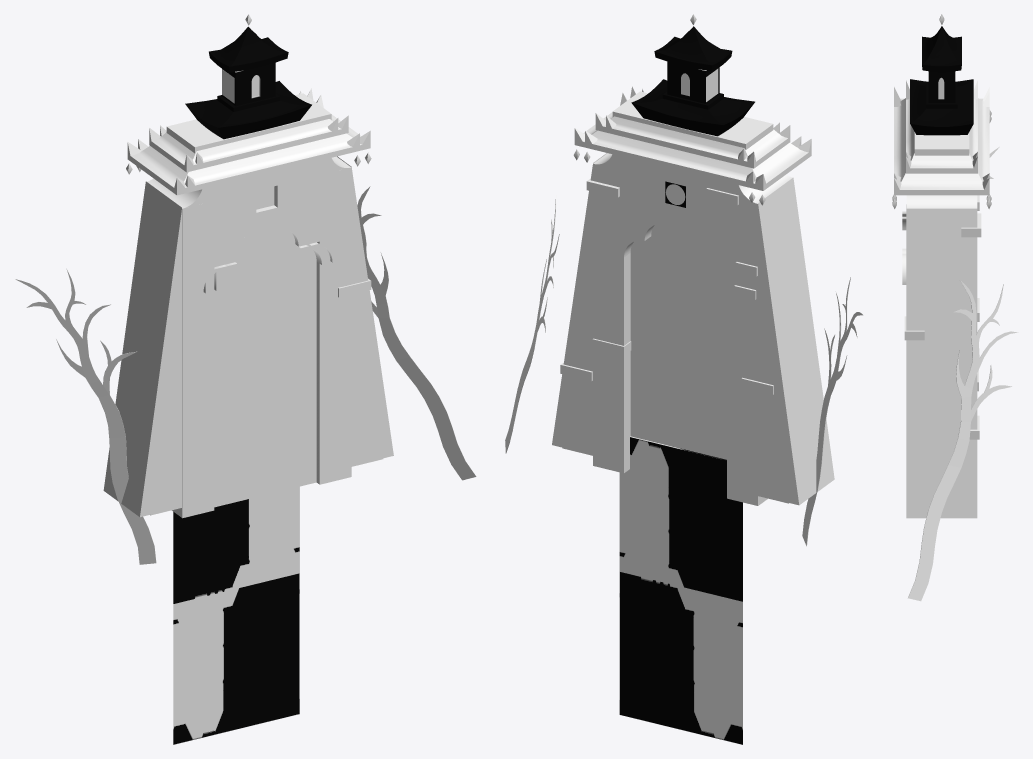
Rendered from SeaGate_EnterScene.fbx.
The picture shows the model from 3 angles, left to right: view 1: azimuth 30°, elevation 25°; view 2: azimuth 150°, elevation 25°; view 3: azimuth 270°, elevation 25°; orthographic projection. The views are drawn at different scales.
Visible parts, largest first — view 1: Whitebox_Slope (×3), DepthFadeCube, Doors_SlidingDoor_Top, Doors_SlidingDoor_Top (1), Whitebox_cube (×2), Rooftop_Rescue_Huge (×2), Rooftops_Four_Point_Village_Middle_Wide, Belltower_Rescue_Tree (11), Whitebox_cube (6), Rooftops_Four_Point_Village_Middle_Wide (1), Belltower_Rescue_Tree (10), Whitebox_cube (9) (+6 smaller); view 2: Whitebox_Slope (×4), DepthFadeCube, Doors_SlidingDoor_Top, Doors_SlidingDoor_Top (1), Rooftop_Rescue_Huge (×2), Whitebox_cube (9), Whitebox_cube (8), Rooftops_Four_Point_Village_Middle_Wide (×2), Rooftops_Four_Point_Village_Middle_Wide (1) (×2), Belltower_Rescue_Tree (11), Whitebox_cube, Whitebox_cube (11) (+6 smaller); view 3: Whitebox_Slope, Rooftop_Rescue_Huge (×2), Belltower_Rescue_Tree (10), Rooftops_Four_Point_Village_Middle_Wide (×2), Rooftops_Four_Point_Village_Middle_Wide (1) (×2), Whitebox_cube, Whitebox_Concave, Whitebox_cube (1), Whitebox_cube (2).
Part boxes in pixels (x1,y1,x2,y2): Whitebox_Slope (×3): [103, 156, 393, 517]; DepthFadeCube: [214, 186, 316, 507]; Doors_SlidingDoor_Top: [173, 573, 299, 744]; Doors_SlidingDoor_Top (1): [173, 486, 299, 603]; Whitebox_cube (×2): [166, 93, 331, 518]; Rooftop_Rescue_Huge (×2): [185, 26, 311, 139]; Rooftops_Four_Point_Village_Middle_Wide: [127, 95, 370, 195]; Belltower_Rescue_Tree (11): [14, 268, 156, 564]; Whitebox_cube (6): [330, 167, 351, 481]; Rooftops_Four_Point_Village_Middle_Wide (1): [149, 88, 348, 172]; Belltower_Rescue_Tree (10): [357, 186, 476, 480]; Whitebox_cube (9): [316, 239, 330, 484]; Whitebox_Slope (×4): [552, 153, 834, 505]; DepthFadeCube: [630, 224, 726, 459]; Doors_SlidingDoor_Top: [619, 572, 742, 744]; Doors_SlidingDoor_Top (1): [619, 437, 742, 601]; Rooftop_Rescue_Huge (×2): [631, 26, 754, 136]; Whitebox_cube (9): [603, 166, 630, 473]; Whitebox_cube (8): [727, 199, 747, 503]; Rooftops_Four_Point_Village_Middle_Wide (×2): [574, 93, 811, 190]; Rooftops_Four_Point_Village_Middle_Wide (1) (×2): [595, 86, 790, 168]; Belltower_Rescue_Tree (11): [802, 277, 863, 546]; Whitebox_cube: [612, 91, 773, 149]; Whitebox_cube (11): [706, 177, 726, 260]; Whitebox_Slope: [906, 208, 977, 518]; Rooftop_Rescue_Huge (×2): [910, 26, 973, 135]; Belltower_Rescue_Tree (10): [908, 280, 1018, 601]; Rooftops_Four_Point_Village_Middle_Wide (×2): [894, 87, 989, 195]; Rooftops_Four_Point_Village_Middle_Wide (1) (×2): [906, 80, 977, 173]; Whitebox_cube: [914, 132, 969, 155]; Whitebox_Concave: [906, 195, 977, 208]; Whitebox_cube (1): [961, 218, 981, 237]; Whitebox_cube (2): [904, 323, 924, 340].
Size of the model in its own units: 19.64 by 32.77 by 5.36.
Materials: 8 (1 with a texture image).
